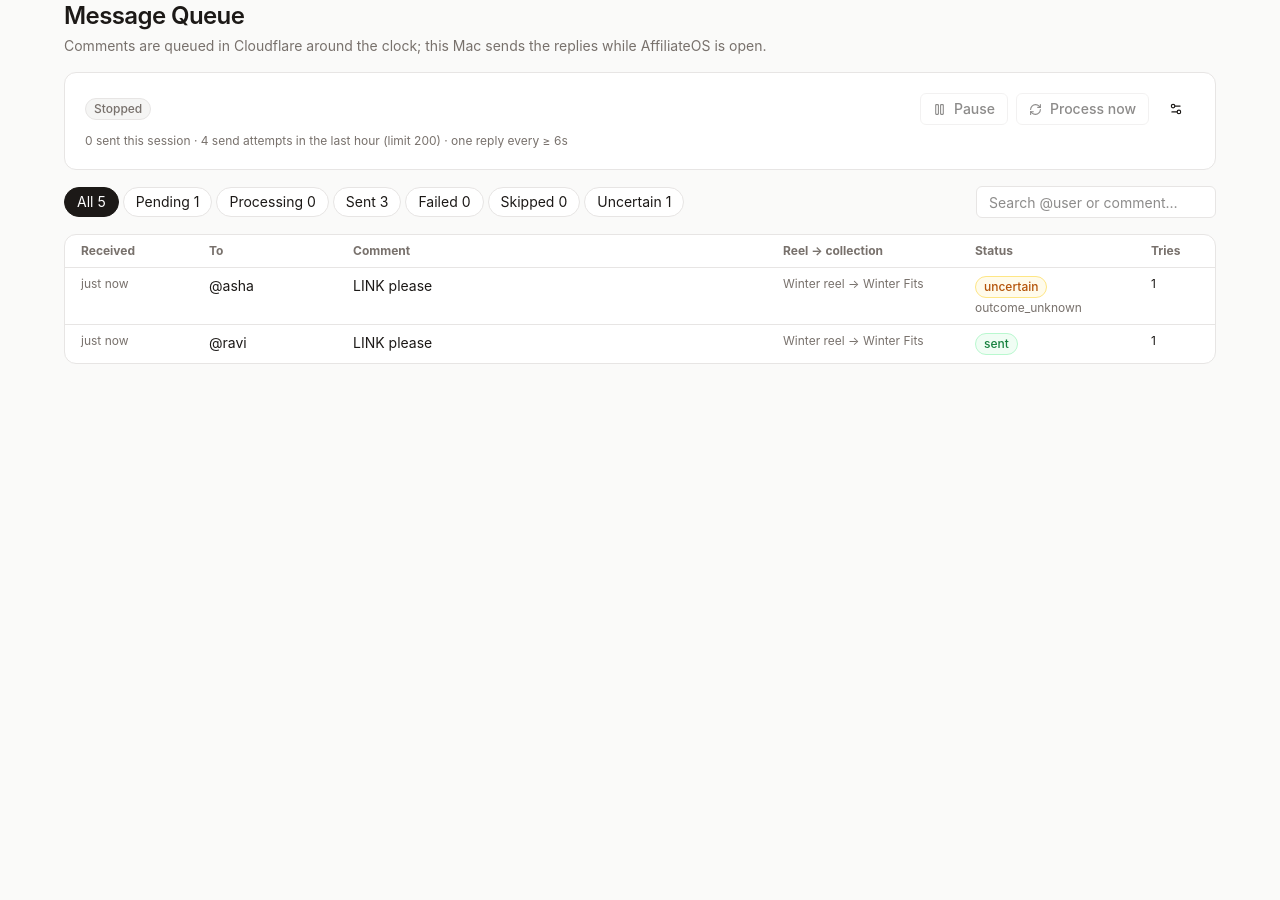
Test case: Message Queue › shows jobs with status counts and an uncertain job's safe actions
The image size is (1280, 900).
Later steps or results of the test are not shown.
Check: the tab "Uncertain 1" is shown, box x1=584 y1=187 x2=684 y2=217
Check: the tab "Sent 3" is shown, box x1=333 y1=187 x2=401 y2=217
Click the row named "Reply to asha" at point(640, 296), box x1=65 y1=268 x2=1215 y2=324
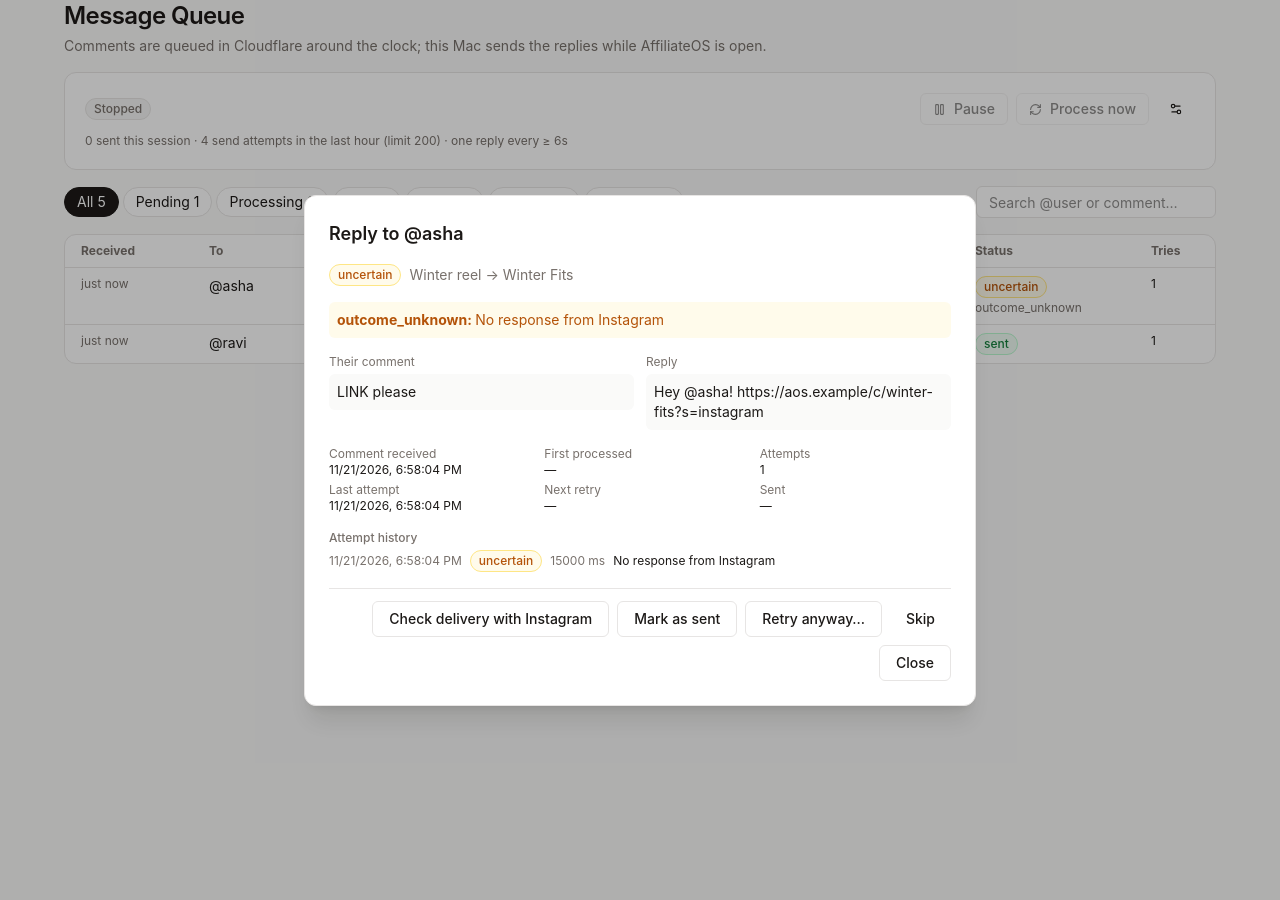
Check: the text "15000 ms" is shown, box x1=550 y1=552 x2=605 y2=568
Check: the button "Check delivery with Instagram" is shown, box x1=372 y1=600 x2=609 y2=636
Click the button "Retry anyway…" at point(814, 618), box x1=745 y1=600 x2=882 y2=636
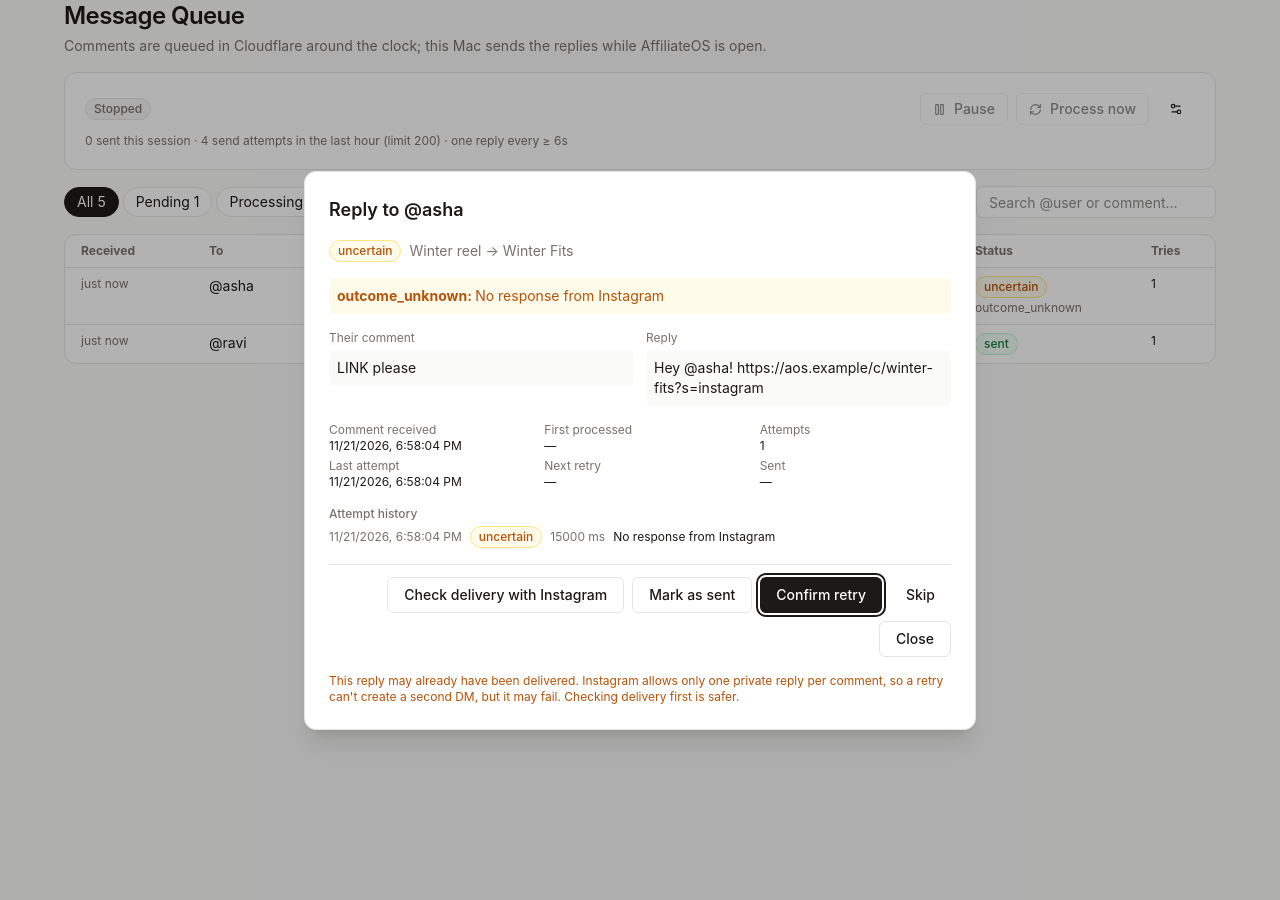
Check: the text "only one private reply per comment" is shown, box x1=329 y1=672 x2=943 y2=704
